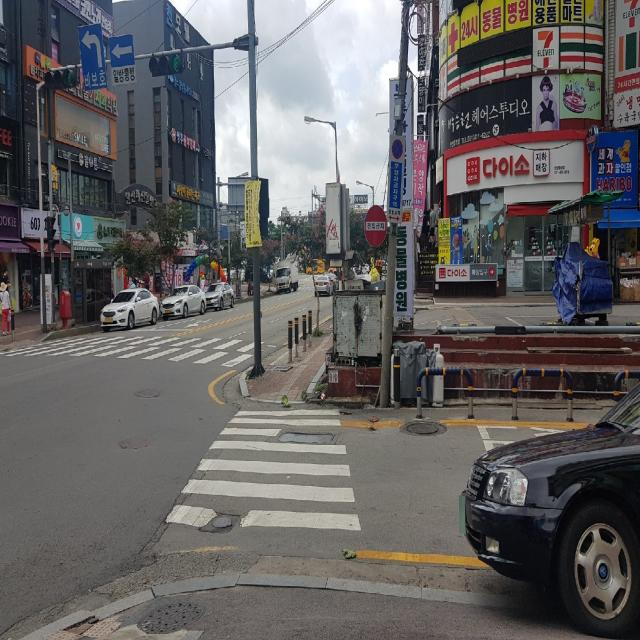횡단보도: (163, 406, 363, 533), (0, 316, 268, 372)
